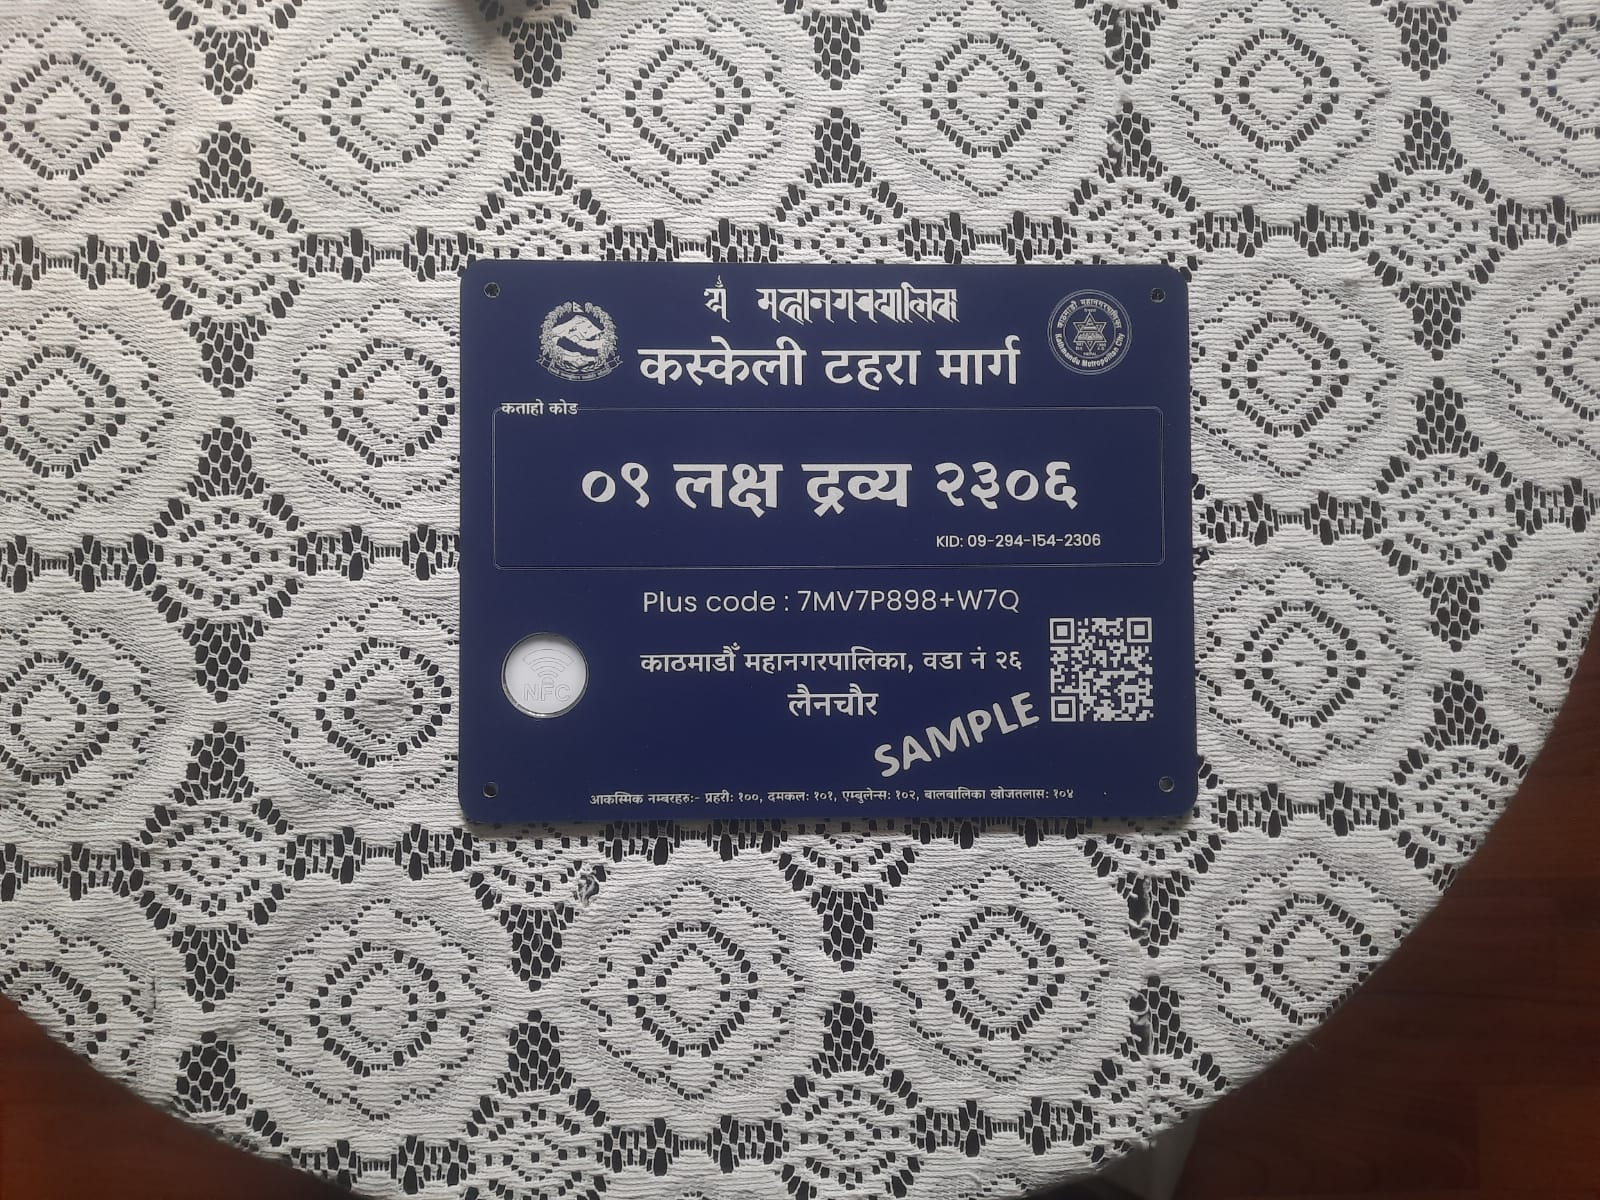Plate: (455, 255, 1206, 831)
